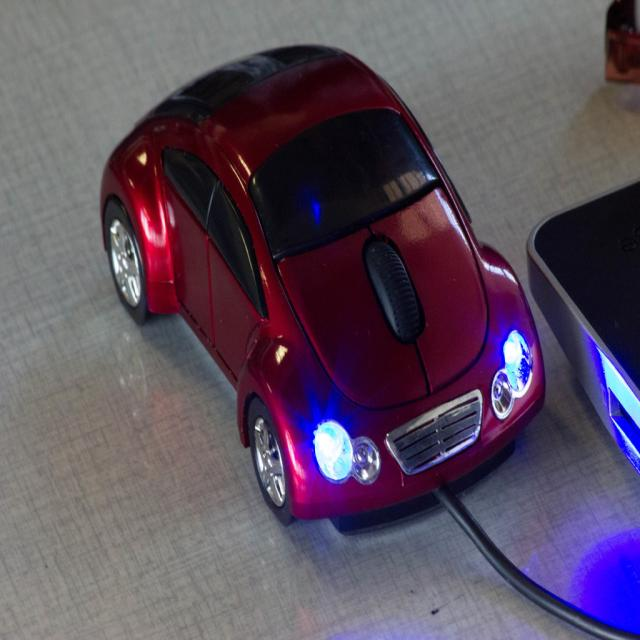Toy: (100, 45, 546, 535)
